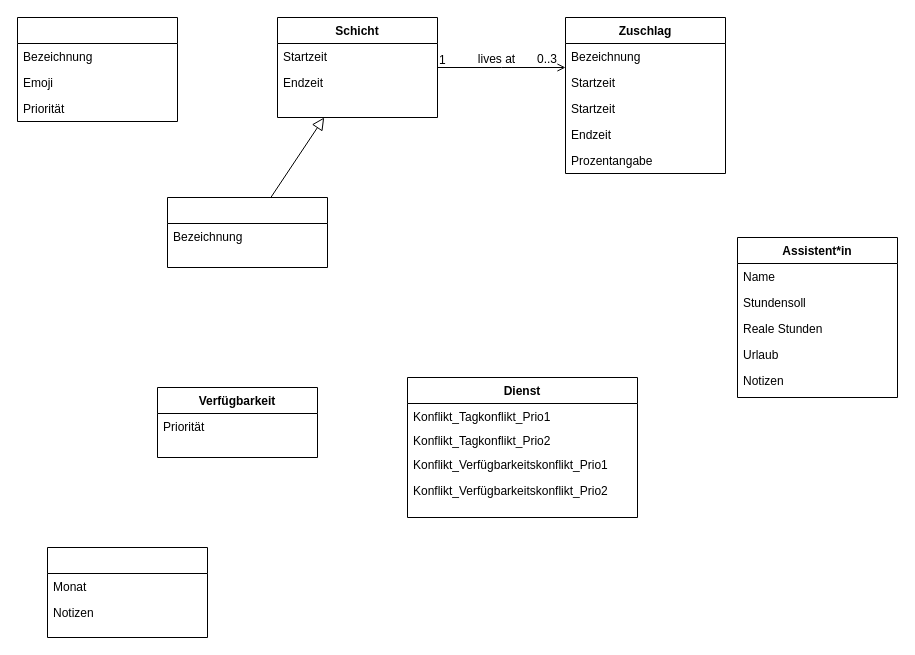
This 915x655 diagram has some shape labels left out. Each missing label, with the box of its shape:
Dienstplan: (46, 546, 208, 638)
Individuelle Schicht: (166, 196, 328, 268)
Tag: (16, 16, 178, 122)
